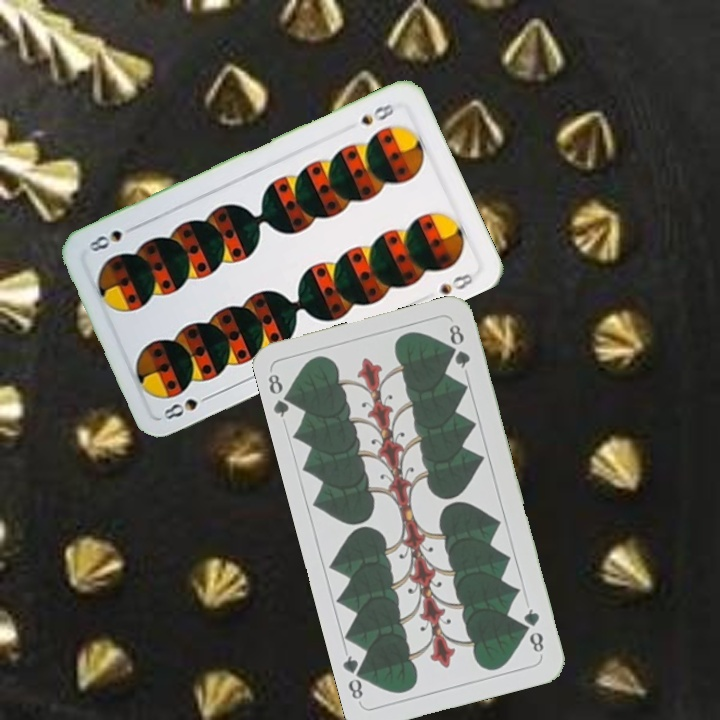G8: (264, 370, 298, 420), (519, 604, 547, 655)
S8: (159, 390, 216, 422), (356, 99, 397, 128)
